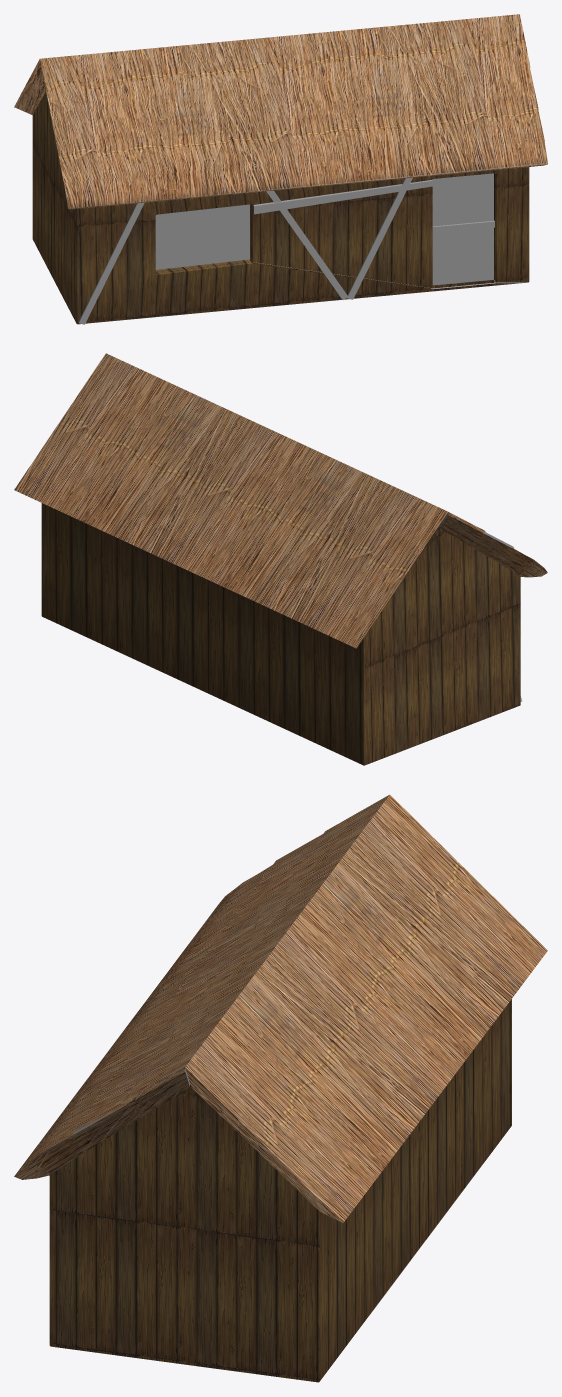
File: Shack2.fbx
3 views of the same model, one above another, from view 1: azimuth 30°, elevation 25°; view 2: azimuth 150°, elevation 25°; view 3: azimuth 270°, elevation 25° (orthographic). The views are drawn at different scales.
Visible parts, largest first — view 1: pCube32; view 2: pCube32; view 3: pCube32.
Boxes of the visible parts, x1,y1,x2,y2 form: pCube32: (14, 14, 547, 324); pCube32: (14, 353, 547, 765); pCube32: (14, 794, 547, 1382).
Size of the model in its own units: 823 by 371 by 586.
